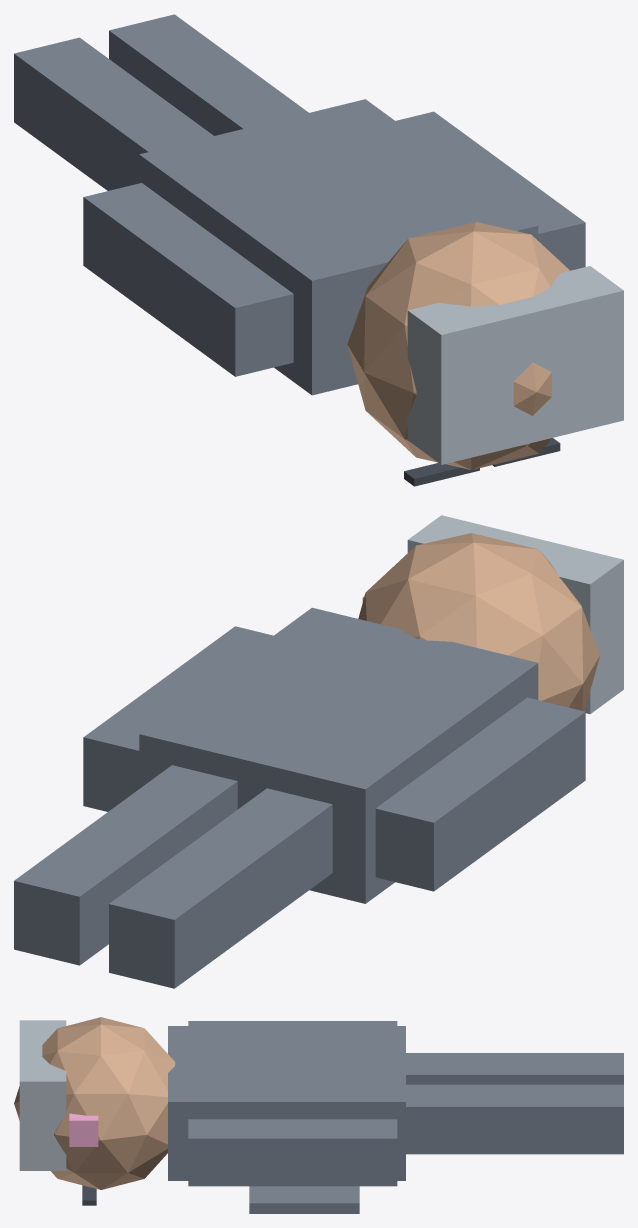
Rendered from cfo_variant_2.glb.
3 views of the same model, one above another, from view 1: azimuth 30°, elevation 25°; view 2: azimuth 150°, elevation 25°; view 3: azimuth 270°, elevation 25° (orthographic). The views are drawn at different scales.
Visible parts, largest first — view 1: torso_2, hair_6, arm_l_3, head_5, leg_l_0, leg_r_1, arm_r_4, glasses_l_10; view 2: torso_2, leg_l_0, arm_l_3, head_5, leg_r_1, arm_r_4, hair_6; view 3: torso_2, head_5, leg_r_1, arm_r_4, leg_l_0, hair_6, tablet_9, arm_l_3, earring_or_badge_12.
Boxes of the visible parts, <box> form: torso_2: <box>139,99,538,395</box>; hair_6: <box>407,266,623,464</box>; arm_l_3: <box>83,183,293,376</box>; head_5: <box>347,222,569,469</box>; leg_l_0: <box>14,37,213,190</box>; leg_r_1: <box>109,14,308,135</box>; arm_r_4: <box>396,111,585,270</box>; glasses_l_10: <box>404,463,479,486</box>; torso_2: <box>139,607,538,903</box>; leg_l_0: <box>109,788,332,988</box>; arm_l_3: <box>375,697,585,891</box>; head_5: <box>358,533,599,711</box>; leg_r_1: <box>14,765,237,965</box>; arm_r_4: <box>83,626,273,811</box>; hair_6: <box>407,515,623,714</box>; torso_2: <box>168,1026,405,1180</box>; head_5: <box>14,1017,175,1189</box>; leg_r_1: <box>406,1084,623,1154</box>; arm_r_4: <box>188,1119,397,1186</box>; leg_l_0: <box>406,1053,623,1084</box>; hair_6: <box>19,1020,66,1170</box>; tablet_9: <box>249,1186,359,1213</box>; arm_l_3: <box>188,1021,397,1025</box>; earring_or_badge_12: <box>69,1113,98,1146</box>.
Size of the model in its own units: 0.96 by 0.6 by 2.1.
